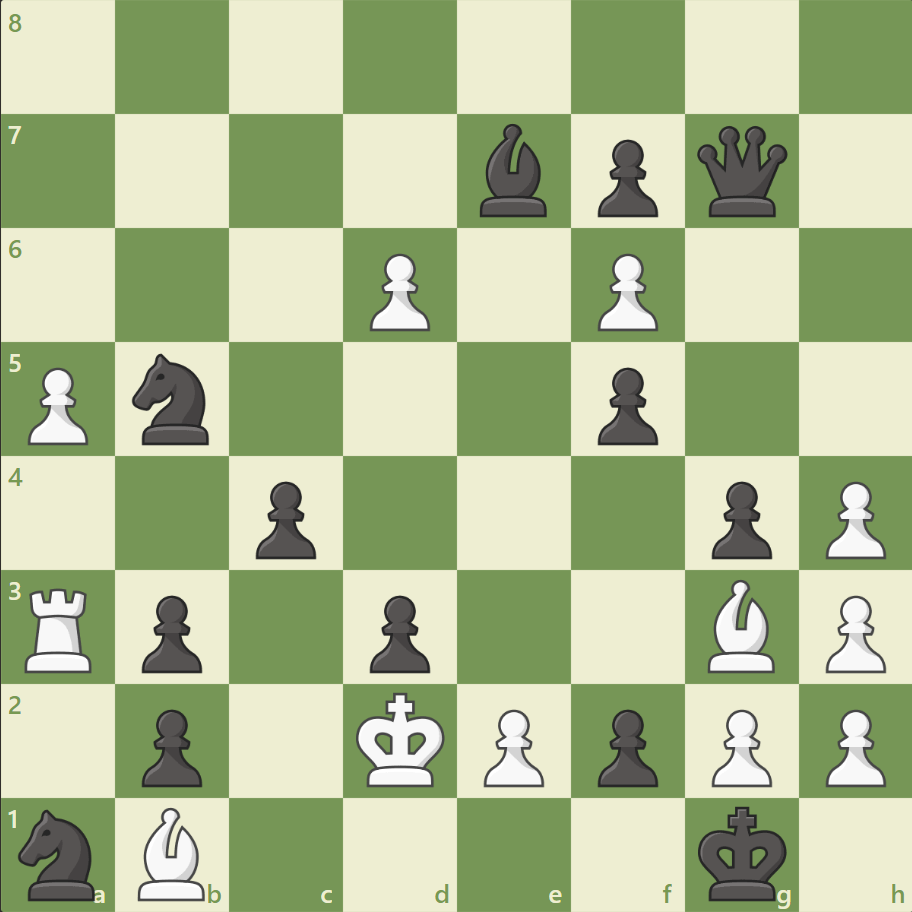B: (131, 801, 215, 904), (698, 574, 782, 676)
K: (351, 685, 451, 793)
P: (20, 359, 95, 450), (474, 700, 549, 791), (701, 700, 776, 791), (361, 246, 435, 337), (588, 246, 662, 337), (815, 473, 889, 564), (815, 586, 889, 677), (815, 700, 889, 791)
R: (19, 579, 102, 676)
b: (471, 120, 555, 222)
k: (692, 798, 792, 906)
n: (124, 348, 222, 450), (11, 802, 108, 904)
p: (247, 473, 322, 564), (701, 473, 776, 564), (133, 586, 208, 677), (133, 700, 208, 791), (588, 132, 662, 223), (588, 359, 662, 450), (361, 586, 435, 677), (588, 700, 662, 791)
q: (691, 122, 790, 222)
